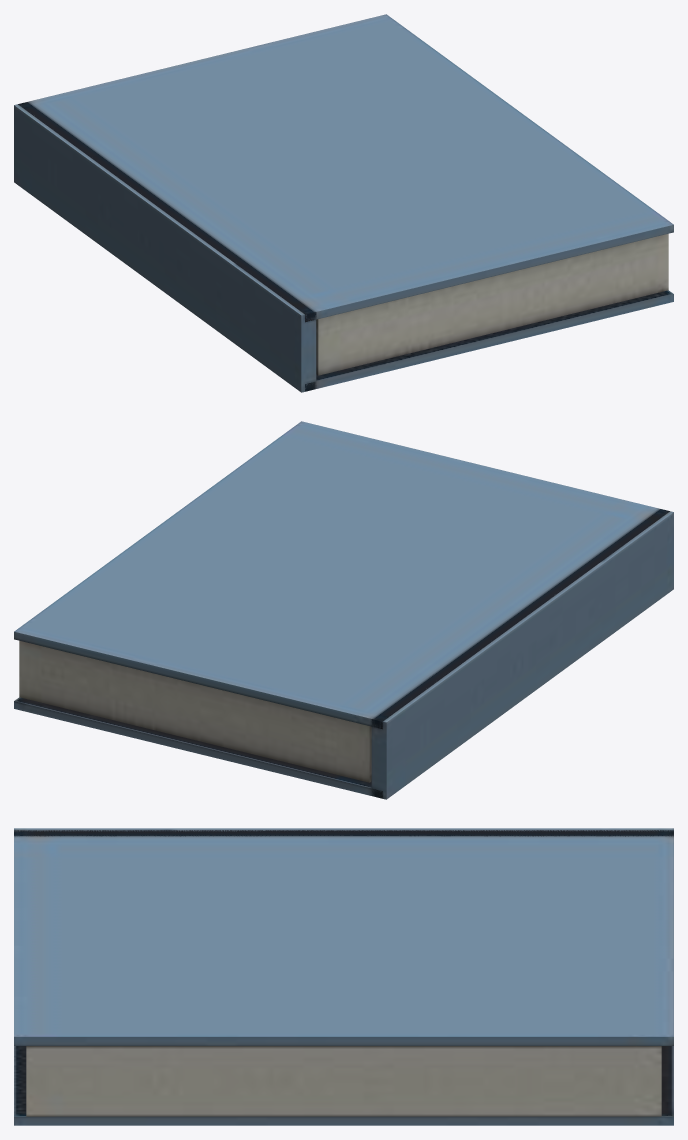
Rendered from prop_book.glb.
3 renders of one model, top to bottom at view 1: azimuth 30°, elevation 25°; view 2: azimuth 150°, elevation 25°; view 3: azimuth 270°, elevation 25°, orthographic. The views are drawn at different scales.
Visible parts, largest first — view 1: Textbook; view 2: Textbook; view 3: Textbook.
Boxes of the visible parts, x1,y1,x2,y2 form: Textbook: [14, 14, 673, 392]; Textbook: [14, 421, 673, 799]; Textbook: [14, 828, 673, 1125].
Bounding box in the file's own units: 0.202 × 0.04 × 0.27.
2 materials, 2 textured.
